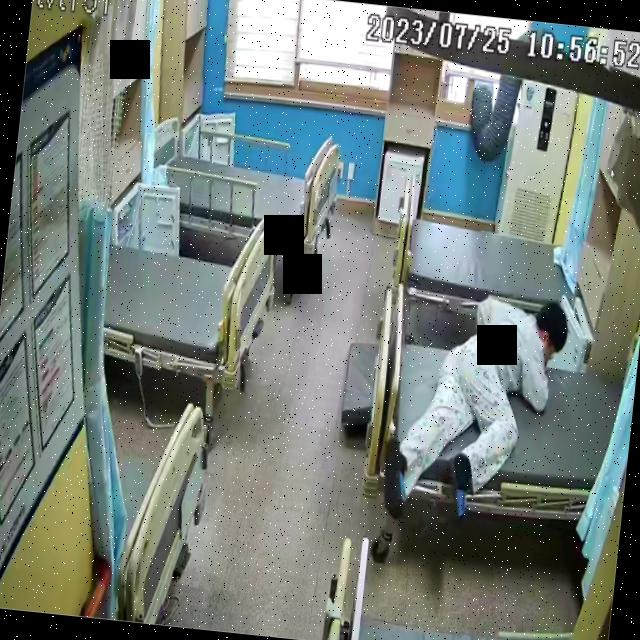bed: (358, 281, 632, 530), (388, 162, 589, 336), (100, 205, 280, 388), (160, 125, 339, 258)
danger: (384, 284, 570, 532)
patient: (384, 282, 572, 534)
